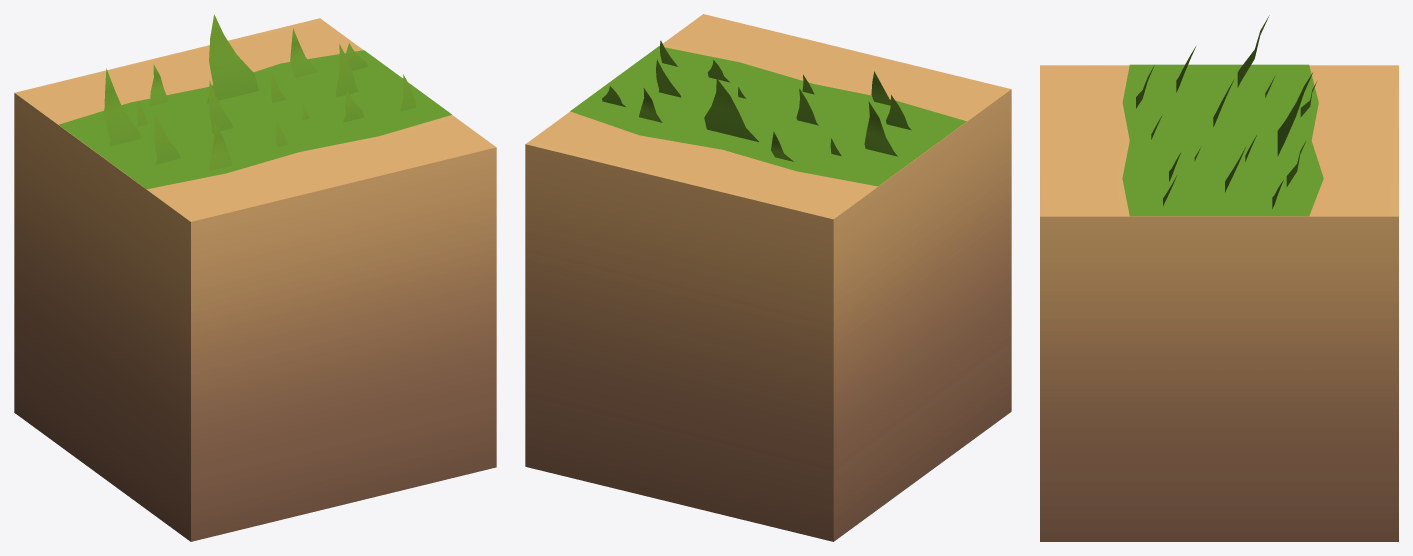
The model's file is twosideb l tile.fbx.
The picture shows the model from 3 angles, left to right: view 1: azimuth 30°, elevation 25°; view 2: azimuth 150°, elevation 25°; view 3: azimuth 270°, elevation 25°; orthographic projection.
Parts seen in each view (by area): view 1: tsb_l_ground, tsb_l, tsb_l_grass; view 2: tsb_l_ground, tsb_l, tsb_l_grass; view 3: tsb_l_ground, tsb_l, tsb_l_grass.
Boxes of the visible parts, bbox=[...] form: tsb_l_ground: bbox=[14, 18, 496, 541]; tsb_l: bbox=[59, 50, 451, 189]; tsb_l_grass: bbox=[104, 14, 416, 170]; tsb_l_ground: bbox=[525, 14, 1011, 541]; tsb_l: bbox=[570, 46, 966, 186]; tsb_l_grass: bbox=[602, 40, 911, 161]; tsb_l_ground: bbox=[1040, 65, 1398, 541]; tsb_l: bbox=[1122, 64, 1323, 216]; tsb_l_grass: bbox=[1136, 15, 1316, 208].
Size of the model in its own units: 10 by 12.22 by 10.
